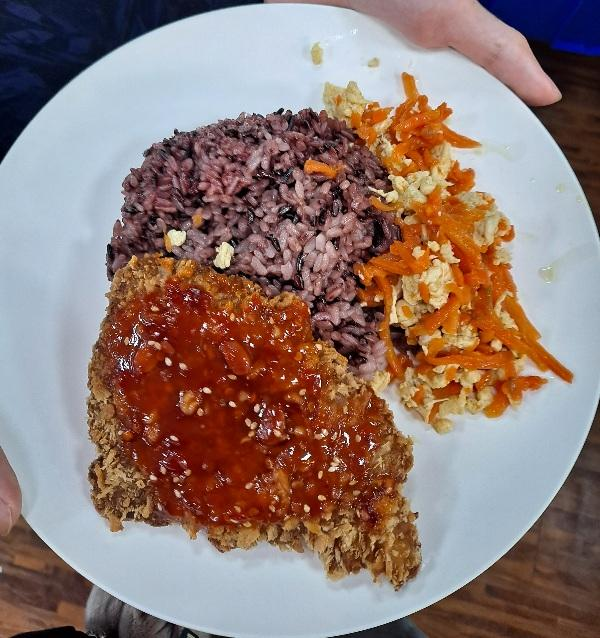big fried chicken leg: (7, 14, 596, 638)
braised fish: (94, 104, 392, 330)
braised fish fillet: (366, 93, 543, 426)
braised pork: (87, 258, 418, 579)
